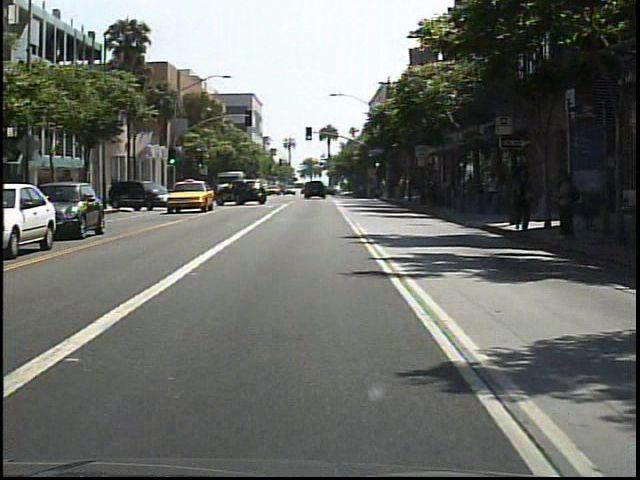person: (549, 167, 581, 242), (507, 161, 538, 238), (482, 167, 500, 209)
